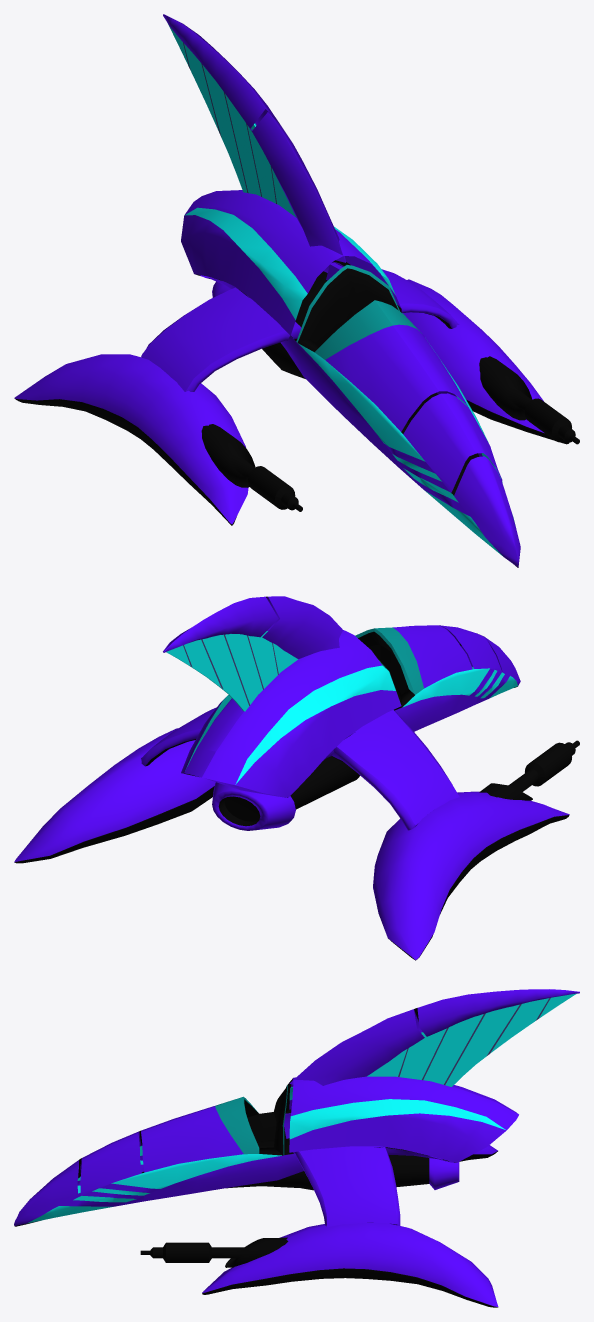
Rendered from HannahNew-Ship.obj.
3 renders of one model, top to bottom at view 1: azimuth 30°, elevation 25°; view 2: azimuth 150°, elevation 25°; view 3: azimuth 270°, elevation 25°, orthographic. The views are drawn at different scales.
Visible parts, largest first — view 1: Blue_Ship; view 2: Blue_Ship; view 3: Blue_Ship.
Part boxes in pixels (box(x1,y1,x2,y2)): Blue_Ship: box(14, 14, 579, 567); Blue_Ship: box(14, 596, 579, 960); Blue_Ship: box(14, 989, 579, 1307).
Bounding box in the file's own units: 5.14 × 3.69 × 7.84.
